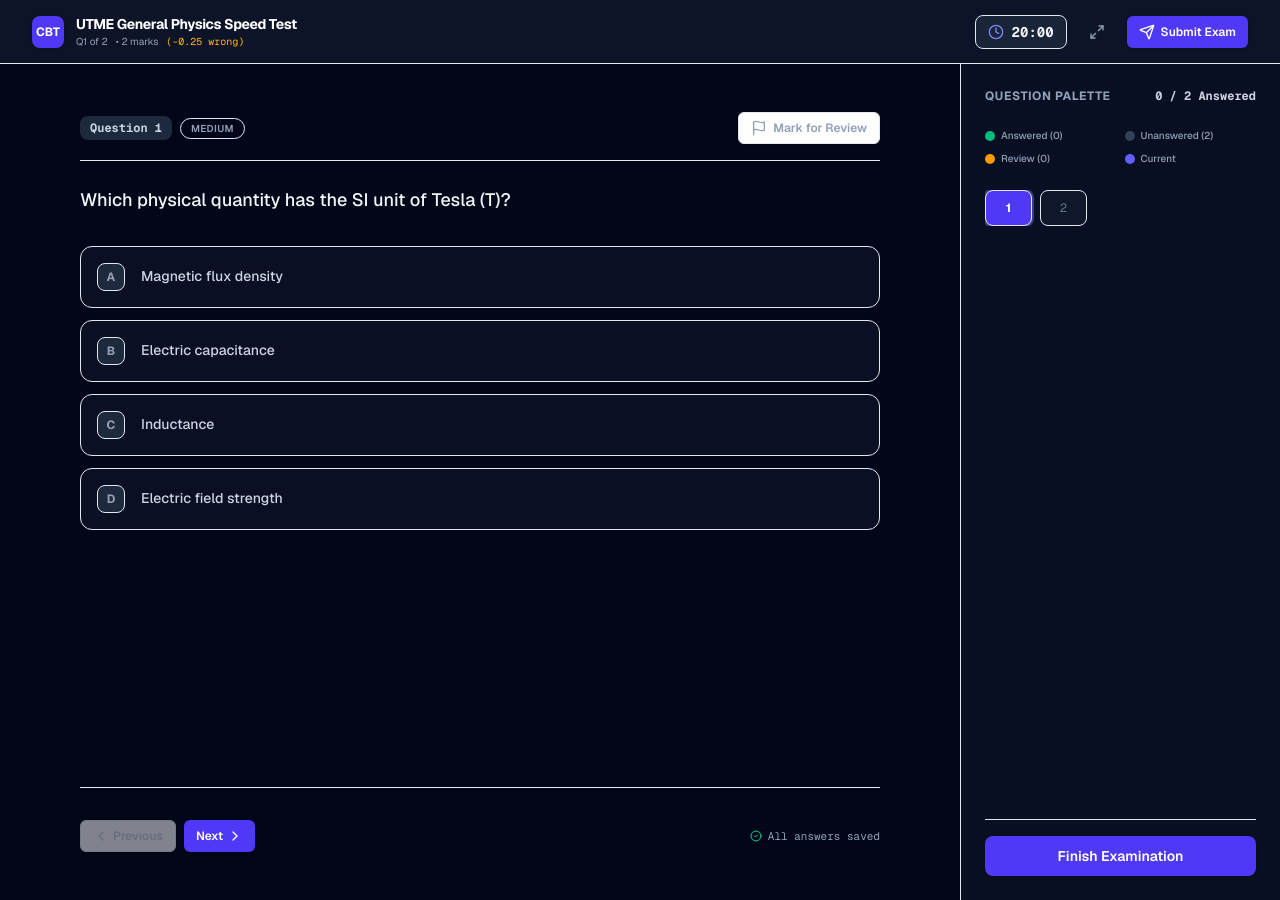
Test case: CBT Exam Runner Workstation Component › navigates to next question on Next click
The width and height of the screenshot is (1280, 900).
Click the button "Next" at {"x": 220, "y": 836}, box left=184, top=820, right=255, bottom=852
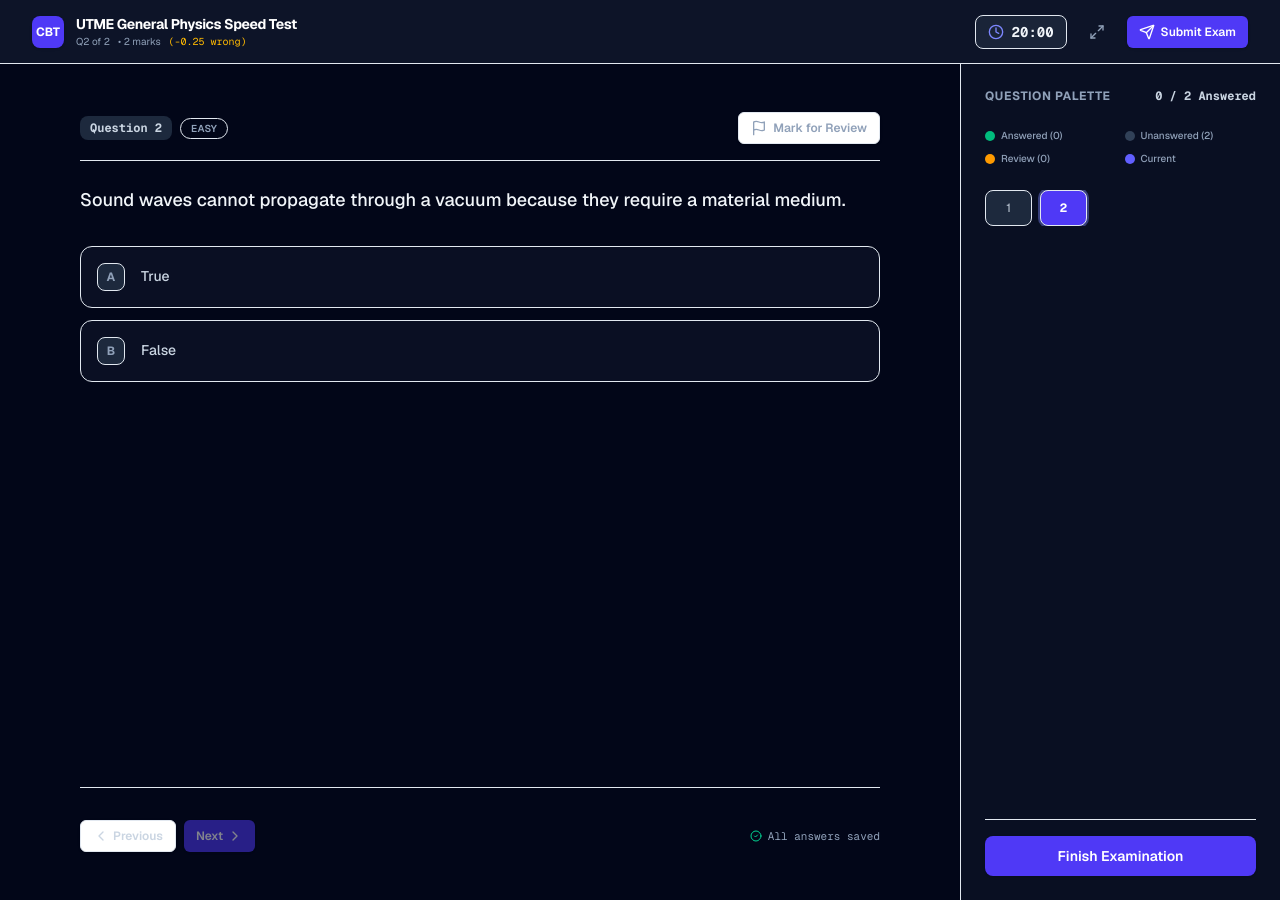
Result: the text "Sound waves cannot propagate through a vacuum" is shown at left=80, top=188, right=846, bottom=211
